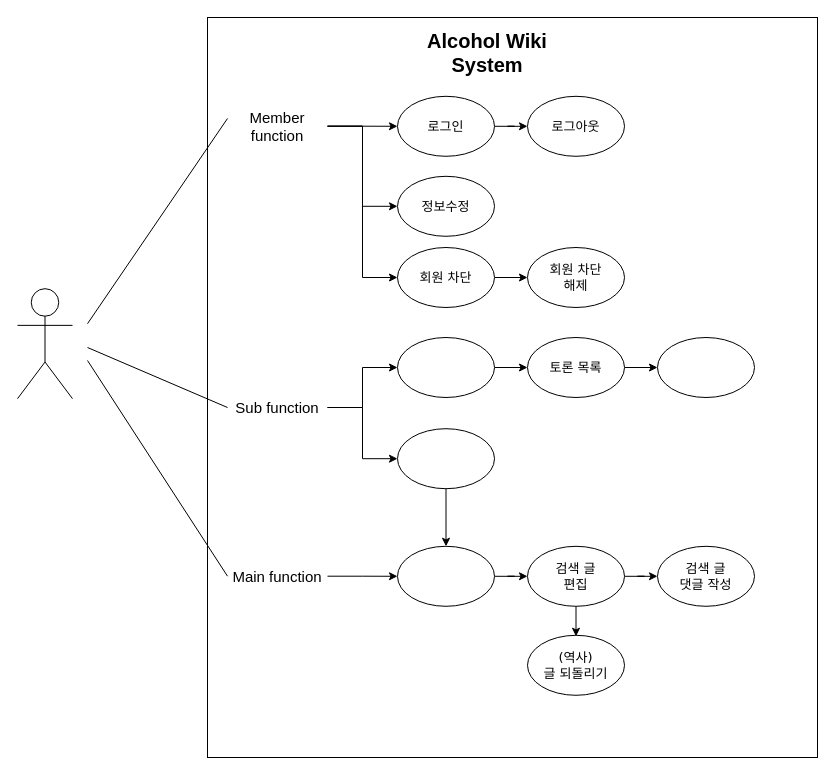
Image size: 835x775. Some labels were removed from this diagram. The shapes that lost their labels are listed below. From the top down, each one's box as (x1, y1, x2, y2) in pixels, then its label:
(16, 288, 72, 399): Admin
(396, 336, 494, 398): 토론 주제 생성
(656, 336, 754, 398): 토론 댓글 작성
(396, 428, 494, 489): 토론 주제 (새 글)등록
(396, 545, 494, 606): 글 검색
